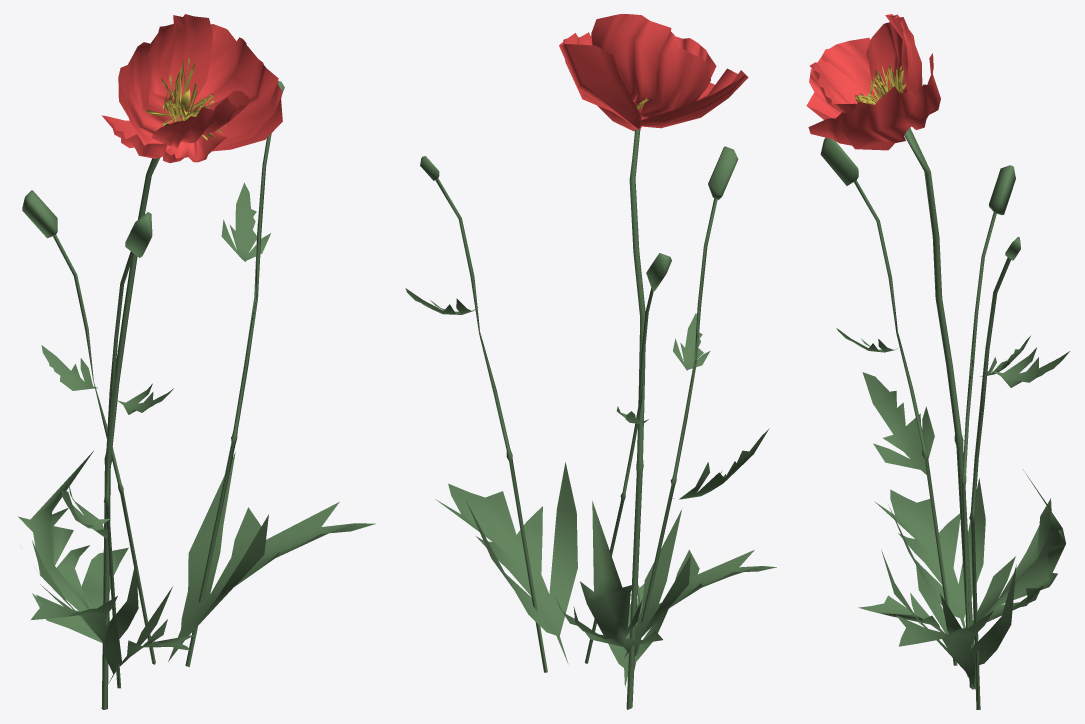
Rendered from Scatter Demo Scene.fbx.
3 views of the same model, side by side, from view 1: azimuth 30°, elevation 25°; view 2: azimuth 150°, elevation 25°; view 3: azimuth 270°, elevation 25° (orthographic). The views are drawn at different scales.
Visible parts, largest first — view 1: Sc Red poppy 01; view 2: Sc Red poppy 01; view 3: Sc Red poppy 01.
Boxes of the visible parts, left/top/right/bottom form: Sc Red poppy 01: left=18, top=14, right=375, bottom=709; Sc Red poppy 01: left=405, top=14, right=776, bottom=709; Sc Red poppy 01: left=806, top=14, right=1069, bottom=709.
Size of the model in its own units: 22.64 by 43.99 by 15.35.
